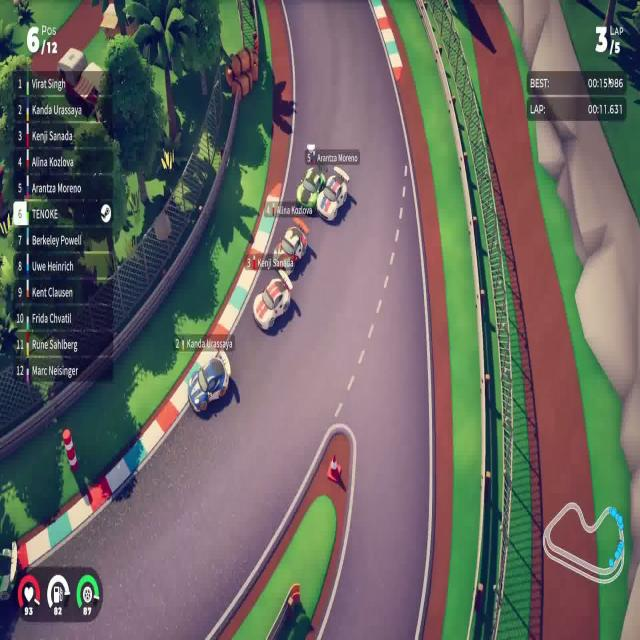car: (186, 349, 231, 416), (252, 273, 292, 332), (316, 165, 350, 222), (272, 223, 308, 274), (295, 166, 326, 214)
